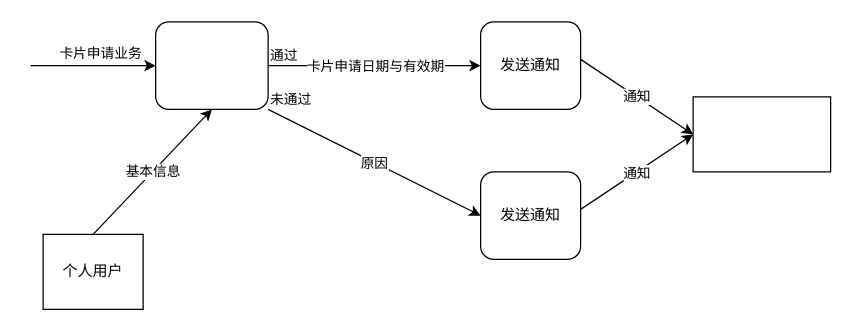
Image size: 853x331. Some labels were removed from this diagram. The shapes that lost their labels are listed below. From the top down, each one's centre as x and y in pixels, then its label:
At (211,65): "审核基本信息".
At (761,134): "客户".
